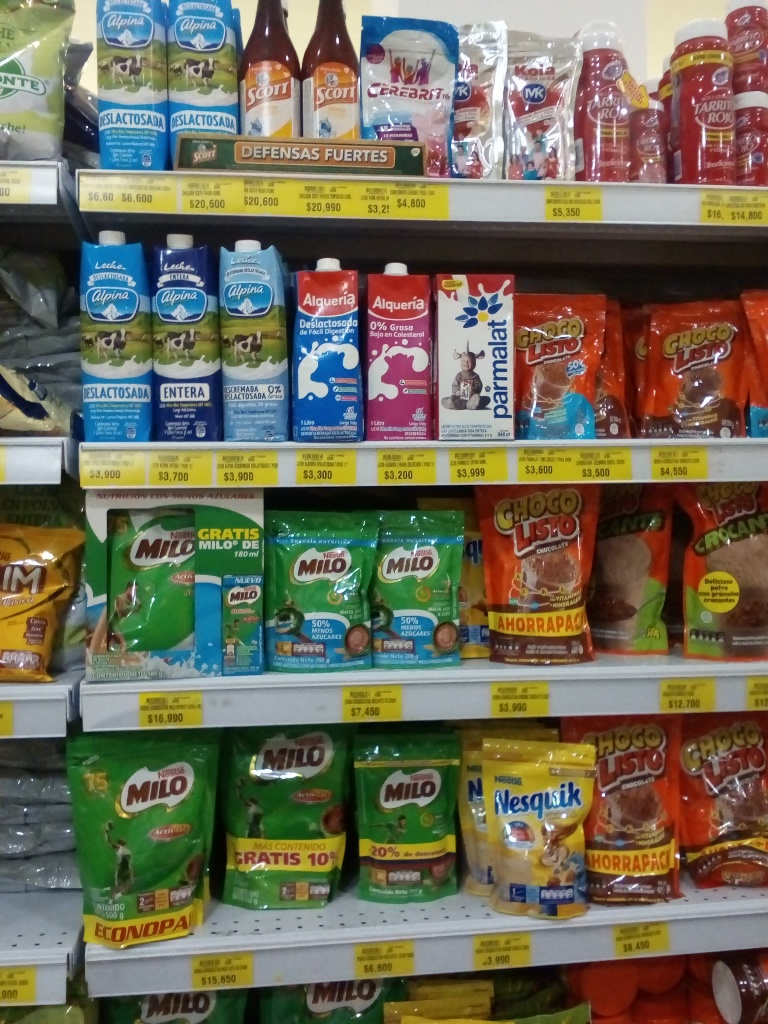COL0170102DYP50000: (592, 481, 677, 667)
COL0170103DYP44000: (468, 484, 589, 666)
COL0170104DYP20000: (512, 290, 594, 439)
COL0170203DYP25000: (347, 738, 463, 906)
COL0170203DYP50000: (68, 746, 218, 948)
COL0170205DYP20000: (271, 513, 371, 677)
COL0170205DYP50000: (107, 509, 210, 657)
COL0170306DYP20000: (466, 725, 596, 916)
